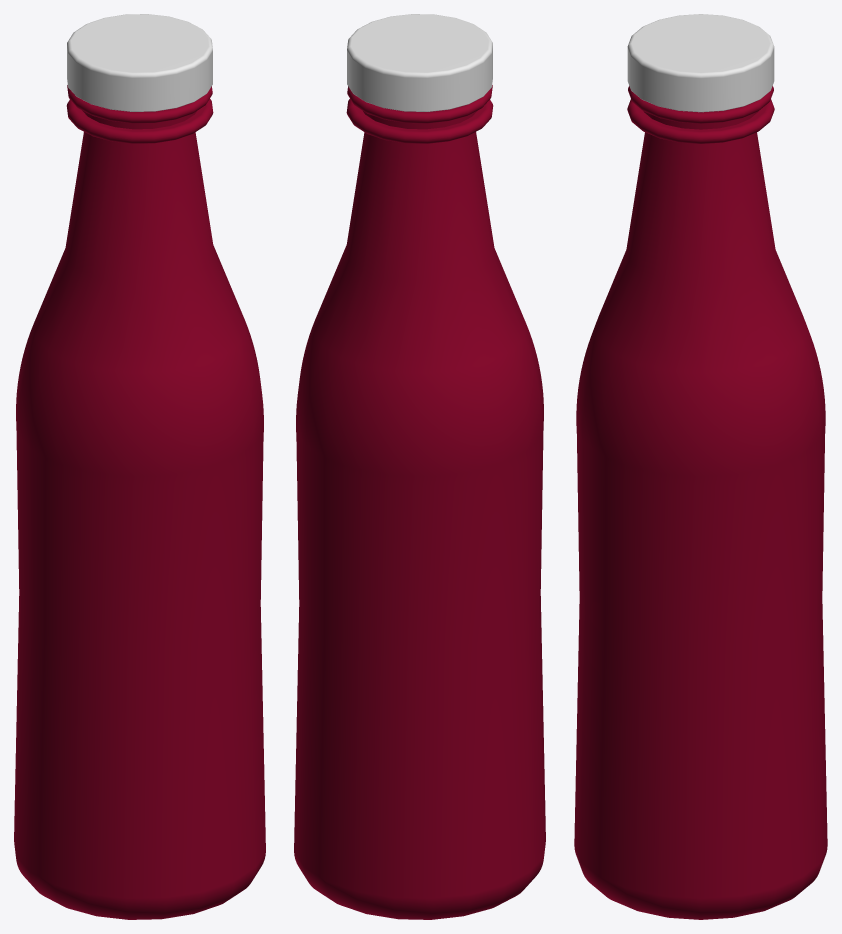
The model's file is botella.fbx.
3 renders of one model, left to right at view 1: azimuth 30°, elevation 25°; view 2: azimuth 150°, elevation 25°; view 3: azimuth 270°, elevation 25°, orthographic.
Visible parts, largest first — view 1: pCylinder6, pCylinder7; view 2: pCylinder6, pCylinder7; view 3: pCylinder6, pCylinder7.
Boxes of the visible parts, x1,y1,x2,y2 form: pCylinder6: (14,85,265,919); pCylinder7: (67,14,212,111); pCylinder6: (294,85,545,919); pCylinder7: (347,14,492,111); pCylinder6: (574,86,827,919); pCylinder7: (627,14,774,112).
Bounding box in the file's own units: 0.3025 × 1.11 × 0.3025.
